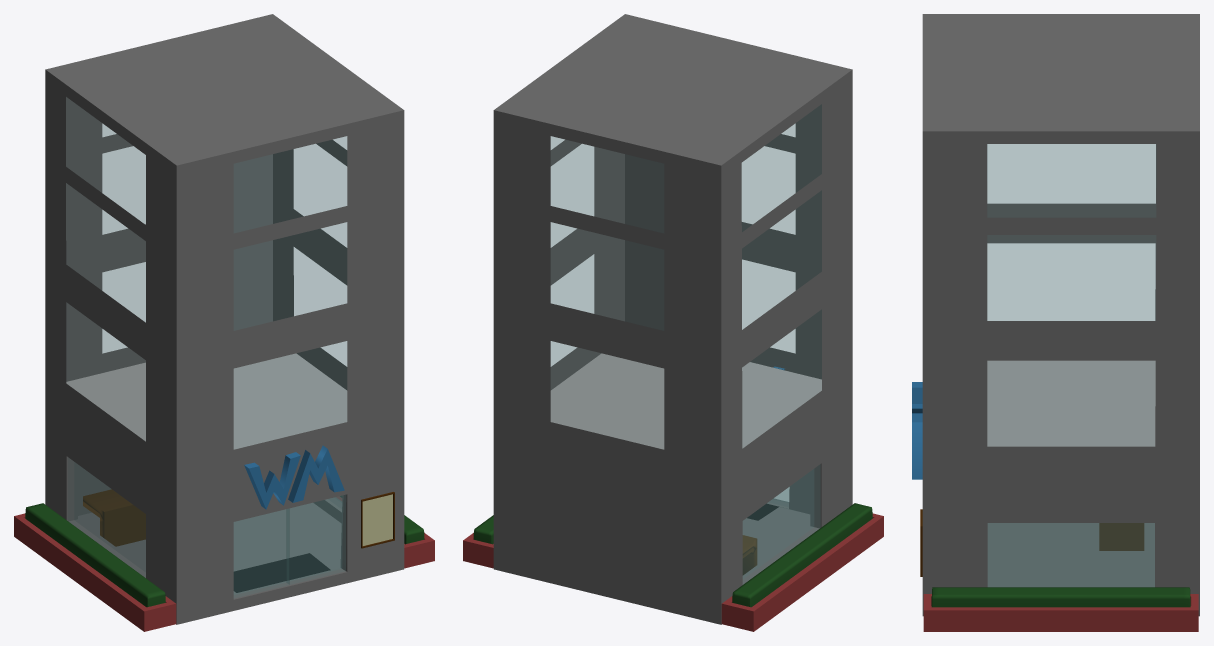
Rendered from Shopping Mart.fbx.
The picture shows the model from 3 angles, left to right: view 1: azimuth 30°, elevation 25°; view 2: azimuth 150°, elevation 25°; view 3: azimuth 270°, elevation 25°; orthographic projection. The views are drawn at different scales.
Parts seen in each view (by area): view 1: pCube1, pasted__pasted__pasted__pCube2, pasted__pCube2, pasted__pCube3, pCube2, pasted__pCube4, Desk, MAt, Pster, pasted__pCube6, Blue, pCube3; view 2: pCube1, pasted__pasted__pasted__pCube2, pasted__pCube3, pasted__pCube4, pCube3; view 3: pCube1, pasted__pasted__pCube2, pCube3, pCube4, Desk, pasted__pCube6.
Boxes of the visible parts, x1,y1,x2,y2 form: pCube1: (45,14,404,624); pasted__pasted__pasted__pCube2: (68,458,145,577); pasted__pCube2: (286,495,345,584); pasted__pCube3: (14,513,176,631); pCube2: (234,508,289,597); pasted__pCube4: (25,503,165,607); Desk: (83,489,145,546); MAt: (233,553,330,592); Pster: (361,492,394,548); pasted__pCube6: (288,445,344,502); Blue: (244,452,300,509); pCube3: (336,496,434,568); pCube1: (493,14,852,624); pasted__pasted__pasted__pCube2: (743,465,820,583); pasted__pCube3: (721,513,883,631); pasted__pCube4: (732,503,872,607); pCube3: (463,533,493,568); pCube1: (922,14,1199,616); pasted__pasted__pCube2: (988,523,1154,586); pCube3: (923,594,1198,631); pCube4: (931,587,1190,607); Desk: (1099,523,1144,550); pasted__pCube6: (912,413,922,479).
Size of the model in its own units: 7.87 by 11.88 by 6.39.
